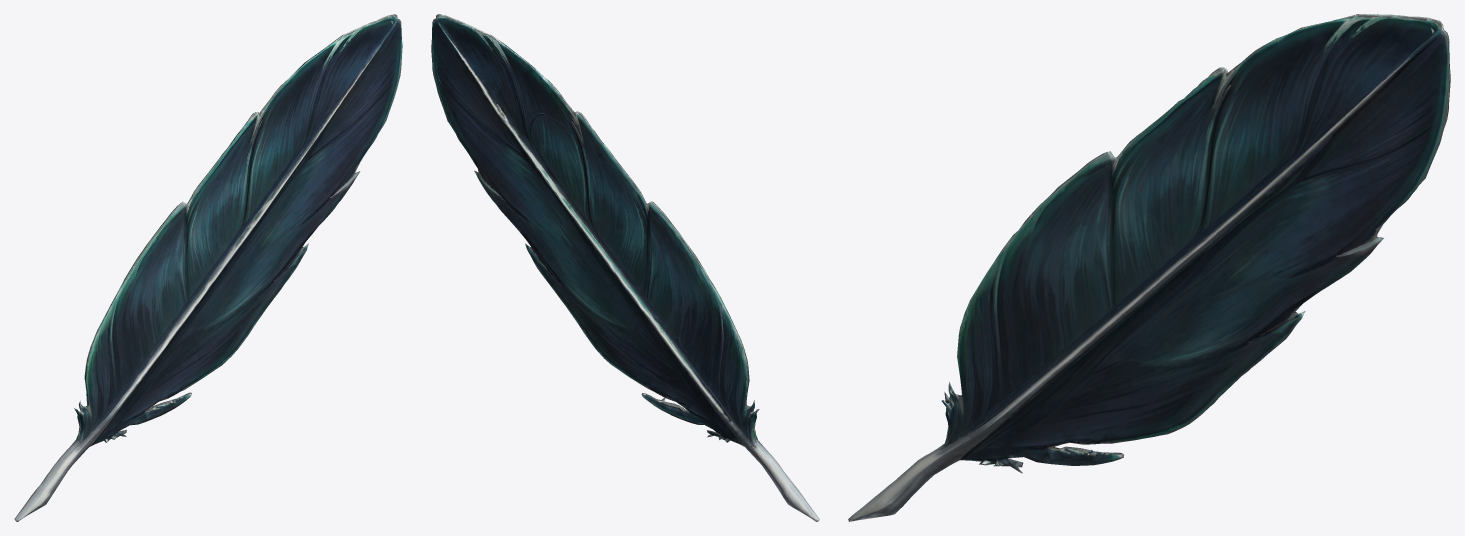
Rendered from Feather_Diag0.fbx.
The picture shows the model from 3 angles, left to right: view 1: azimuth 30°, elevation 25°; view 2: azimuth 150°, elevation 25°; view 3: azimuth 330°, elevation 25°; orthographic projection. The views are drawn at different scales.
Visible parts, largest first — view 1: texture_mapping; view 2: texture_mapping; view 3: texture_mapping.
Part boxes in pixels (x1,y1,x2,y2): texture_mapping: (14,14,402,521); texture_mapping: (431,14,819,521); texture_mapping: (848,14,1450,521).
Size of the model in its own units: 0.9779 by 0.0396 by 1.
1 material, 1 textured.
